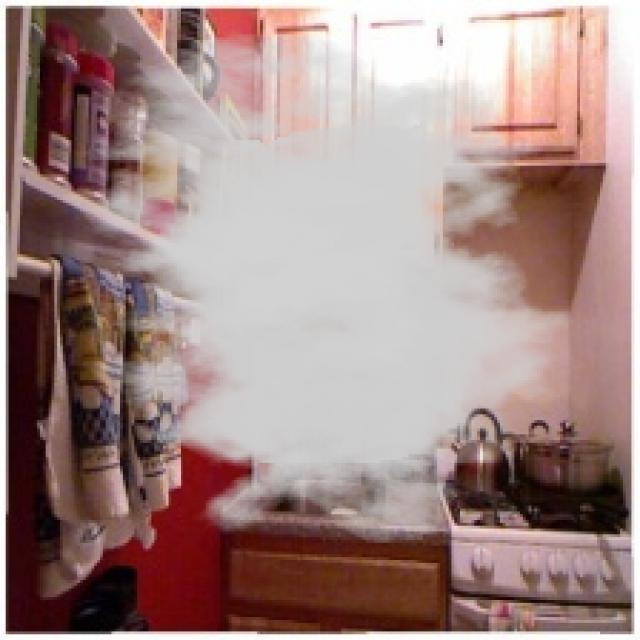Smoke: (31, 31, 580, 546)
